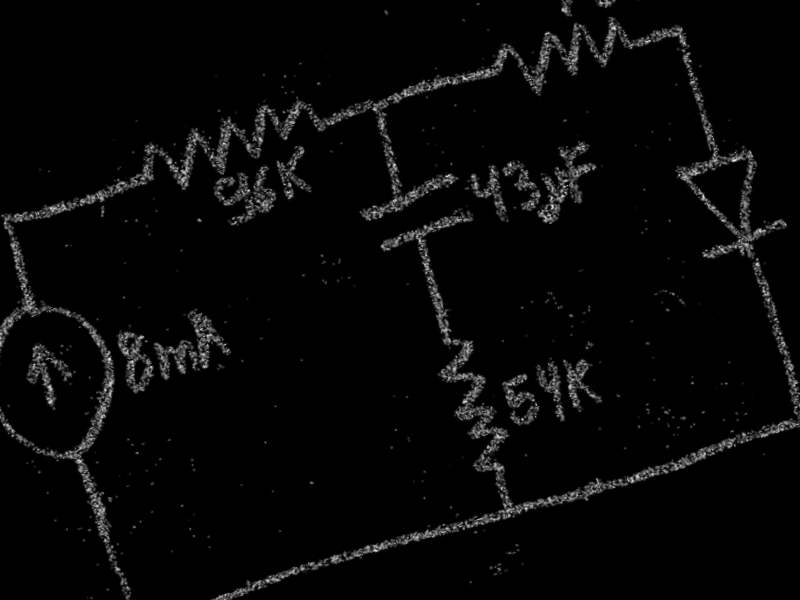3: (490, 152, 555, 221)
4: (455, 158, 525, 235), (523, 354, 584, 429)
5: (489, 367, 552, 434)
6: (238, 160, 290, 220)
7: (527, 0, 601, 26)
8: (100, 321, 171, 399)
9: (202, 166, 269, 235), (570, 0, 632, 15)
A: (175, 300, 242, 375)
F: (548, 135, 614, 206)
k: (551, 349, 612, 417), (264, 142, 325, 206), (602, 0, 674, 9)
m: (143, 328, 209, 388)
u: (528, 163, 584, 223)
